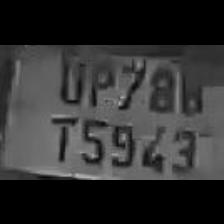3: (166, 120, 196, 172)
4: (137, 116, 167, 172)
5: (76, 113, 106, 164)
7: (112, 53, 146, 111)
8: (144, 57, 176, 112)
9: (105, 116, 135, 168)
P: (83, 53, 114, 109)
T: (43, 112, 76, 162)
U: (52, 48, 86, 104)
